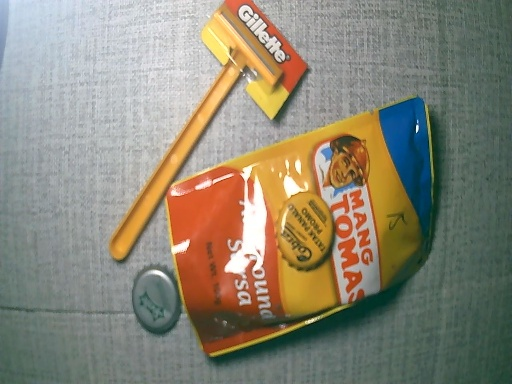metal: (127, 263, 183, 341), (278, 191, 332, 268)
plastic: (178, 97, 437, 363)
trash: (108, 62, 248, 260), (200, 3, 304, 124)
